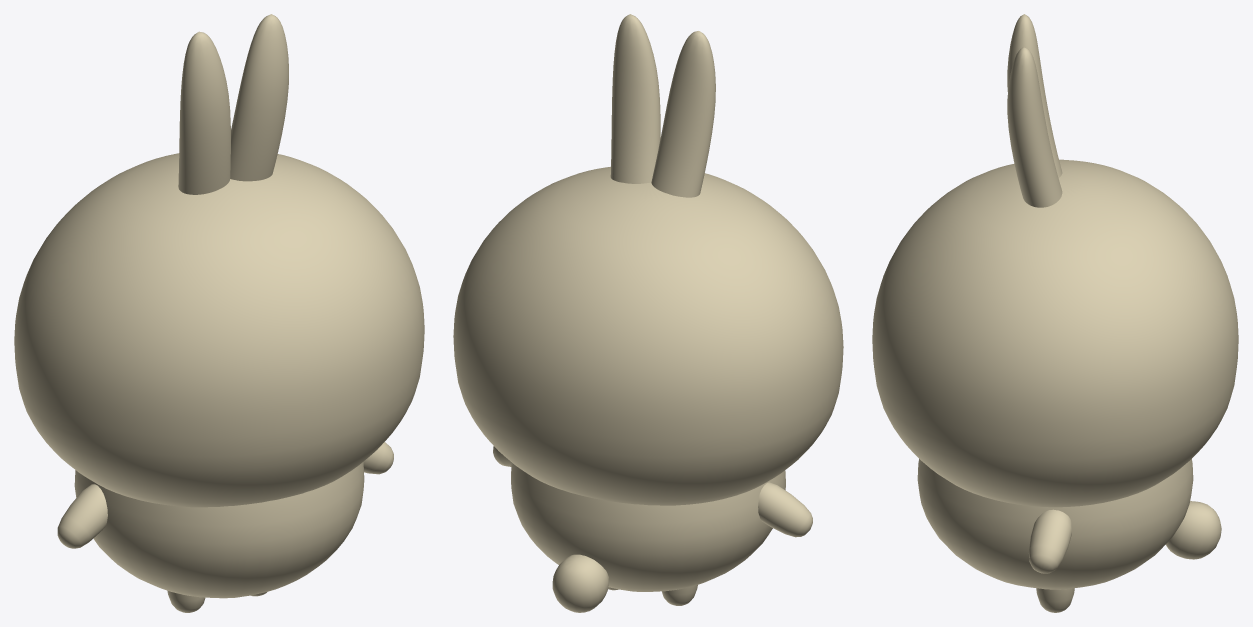
File: usagi.glb
The picture shows the model from 3 angles, left to right: view 1: azimuth 30°, elevation 25°; view 2: azimuth 150°, elevation 25°; view 3: azimuth 270°, elevation 25°; orthographic projection. The views are drawn at different scales.
Visible parts, largest first — view 1: usagi; view 2: usagi; view 3: usagi.
Part boxes in pixels (left/top/right/bottom): usagi: left=14, top=14, right=424, bottom=612; usagi: left=453, top=14, right=843, bottom=612; usagi: left=872, top=14, right=1238, bottom=612.
Size of the model in its own units: 0.7875 by 1.23 by 0.7257.
